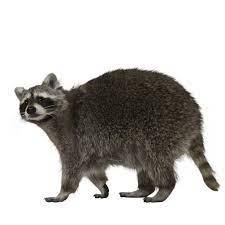raccoon: (8, 63, 224, 207)
